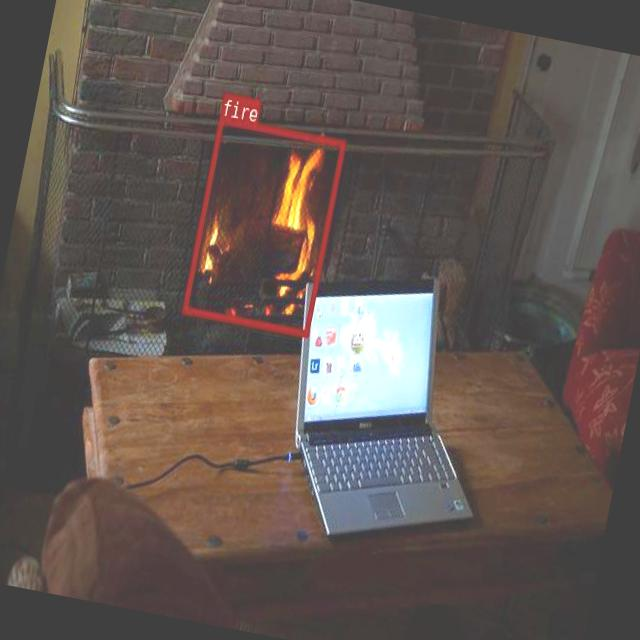fire: (182, 115, 346, 336)
